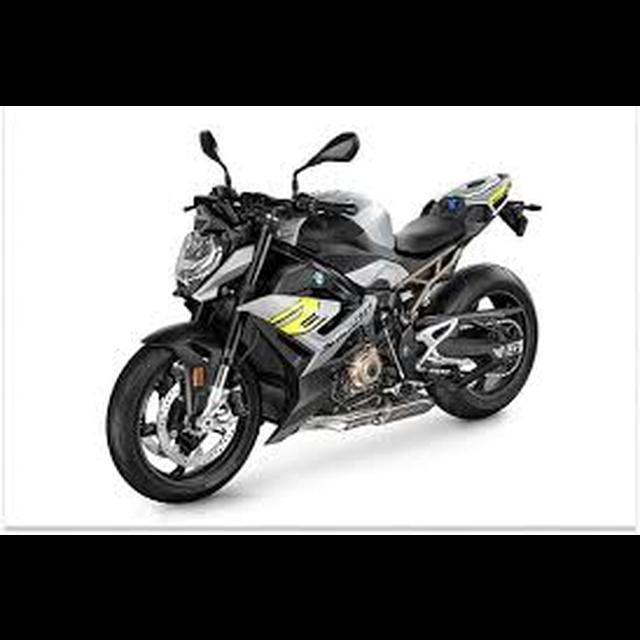motorcycle: (103, 129, 549, 508)
